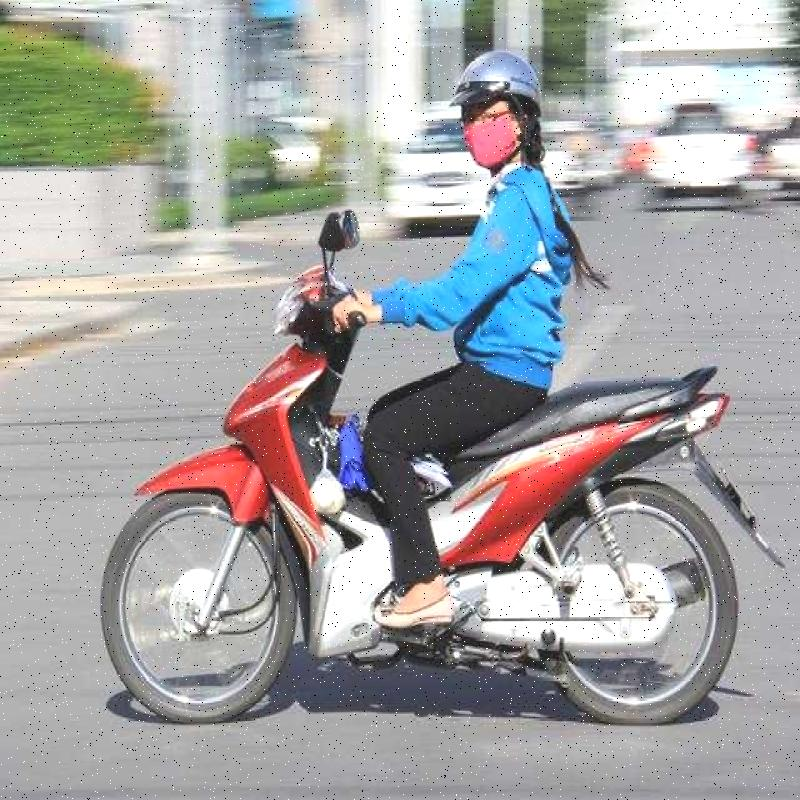bike: (95, 189, 774, 735)
